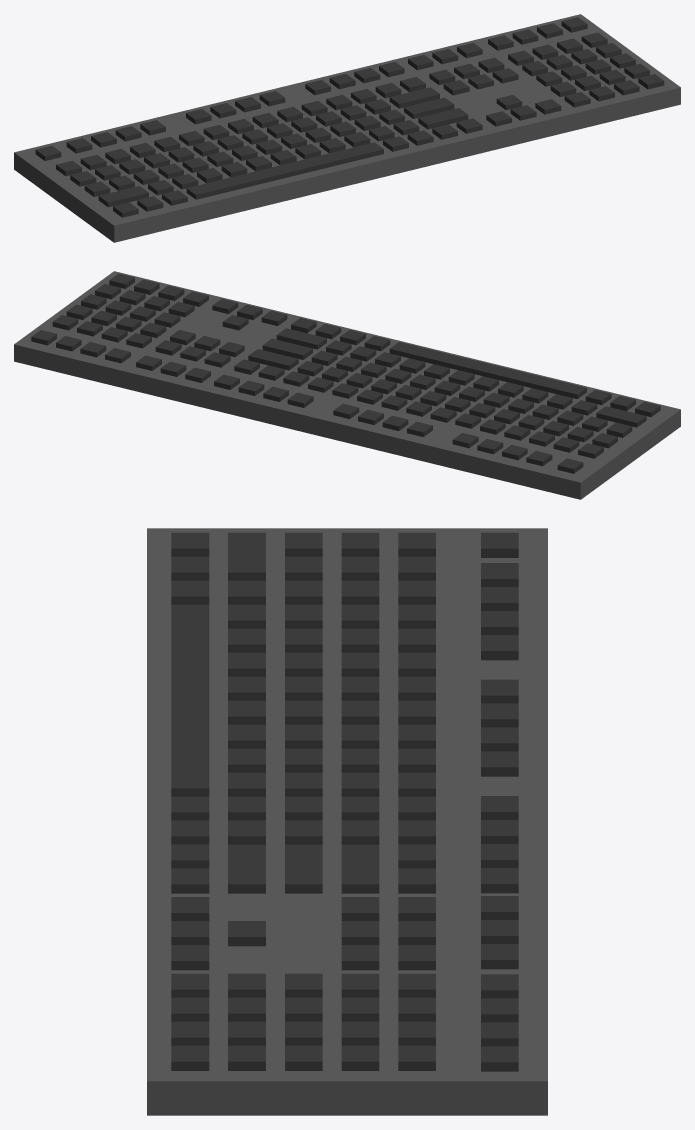
File: SM_Props_PC_07.fbx
The picture shows the model from 3 angles, top to bottom: view 1: azimuth 30°, elevation 25°; view 2: azimuth 150°, elevation 25°; view 3: azimuth 270°, elevation 25°; orthographic projection. The views are drawn at different scales.
Visible parts, largest first — view 1: SM_Props_PC_07; view 2: SM_Props_PC_07; view 3: SM_Props_PC_07.
Part boxes in pixels (x1,y1,x2,y2): SM_Props_PC_07: (14, 14, 680, 242); SM_Props_PC_07: (14, 271, 680, 499); SM_Props_PC_07: (147, 528, 547, 1115).
Bounding box in the file's own units: 0.4144 × 0.0152 × 0.1269.
